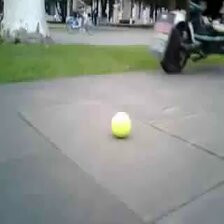tennis: (111, 112, 132, 137)
